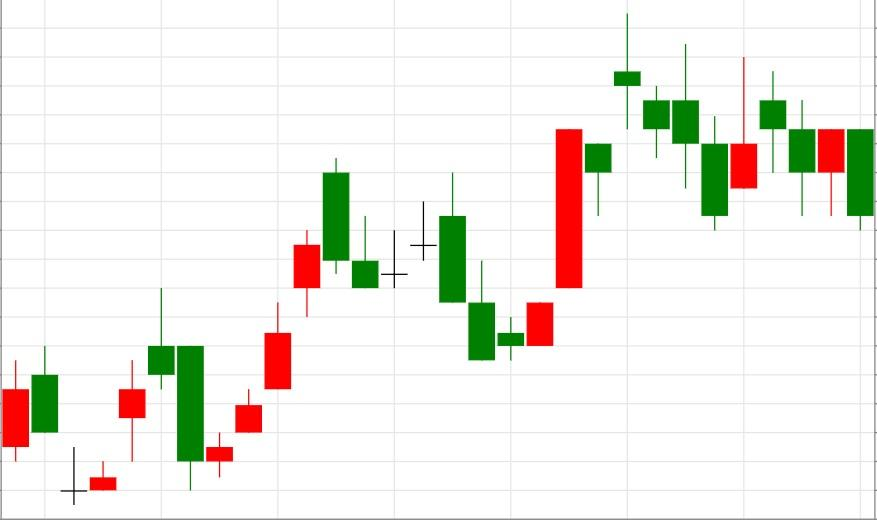three_white_soldiers_rise: (147, 287, 292, 492)
